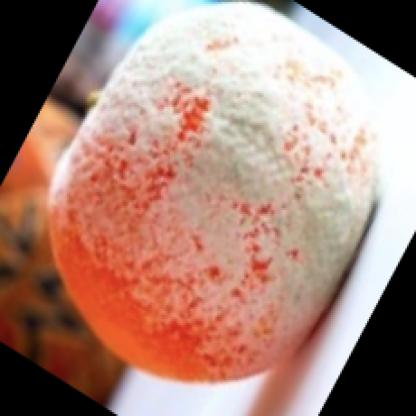rotten: (51, 5, 380, 386)
